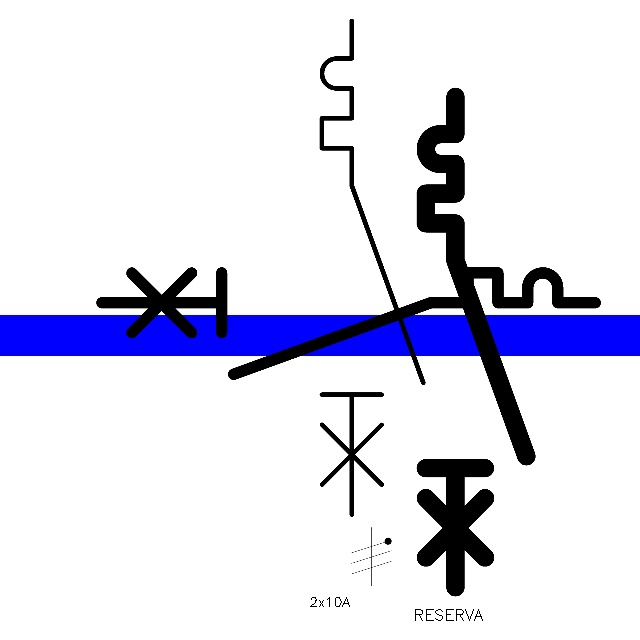interruptor_termomagnetico: (89, 260, 608, 387), (309, 8, 436, 527), (413, 84, 539, 600)
